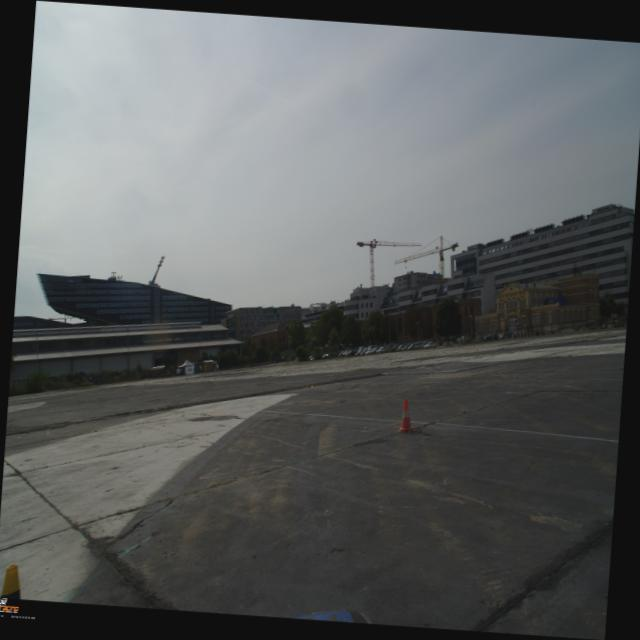orange_cone: (396, 398, 418, 433)
yellow_cone: (0, 562, 22, 598)
